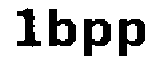1: (15, 6, 44, 50)
b: (47, 6, 77, 49)
p: (117, 13, 150, 58), (83, 14, 114, 58)
